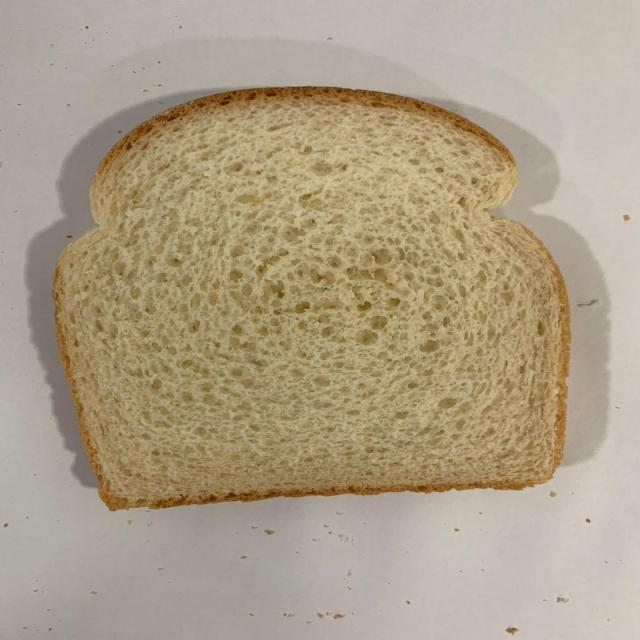sliced_bread: (53, 85, 570, 509)
